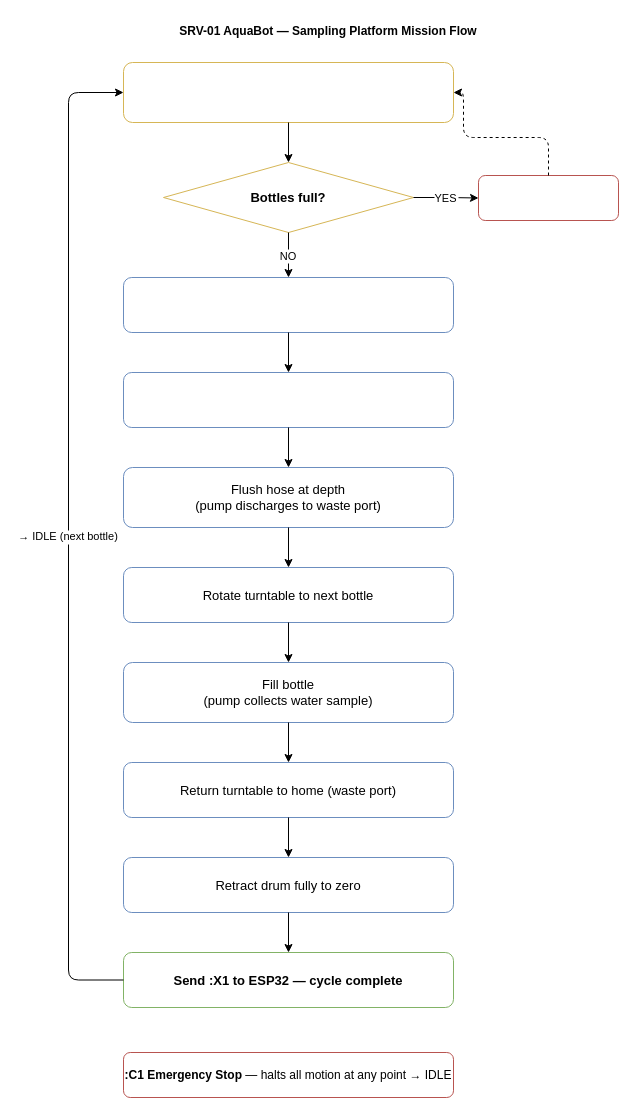
Image size: 636x1115. Some labels were removed from this diagram. The box of each missing label's shape, as (x1, y1, x2, y2) in pixels:
IDLE / READY Waiting for :M1 from ESP32: (122, 62, 454, 122)
Lower drum to sample depth: (122, 372, 454, 428)
Move turntable to home (waste port): (122, 276, 454, 332)
Reply :FULL stay IDLE: (478, 174, 618, 220)
